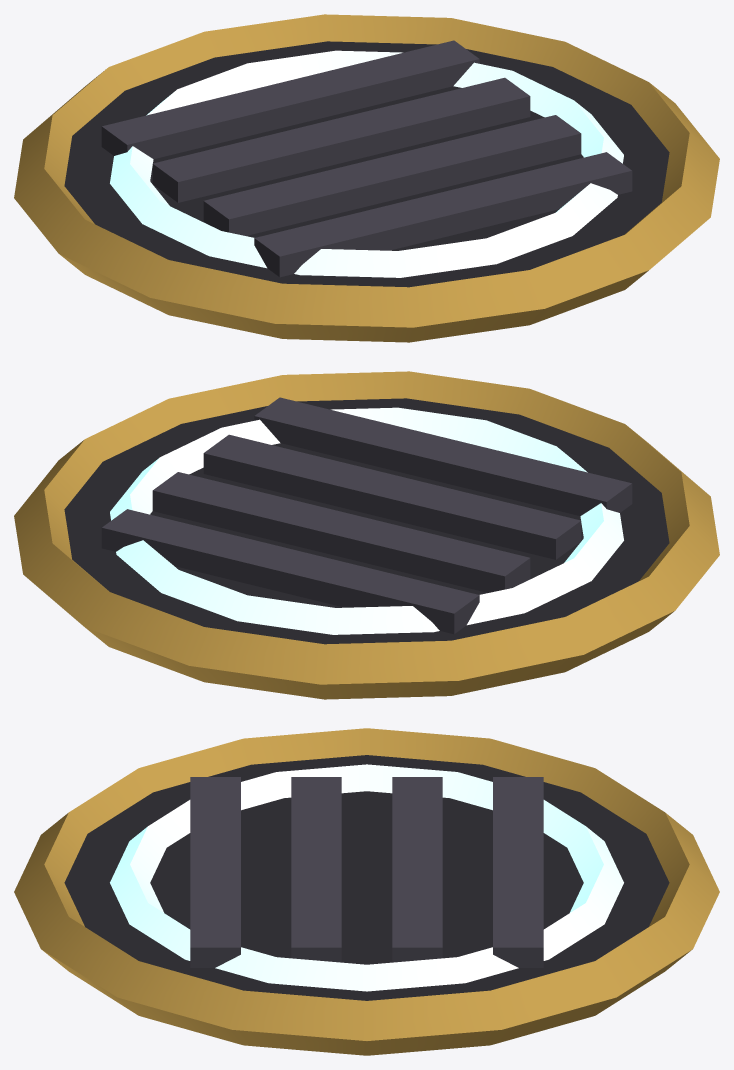
File: BueiroVapor.fbx
3 renders of one model, top to bottom at view 1: azimuth 30°, elevation 25°; view 2: azimuth 150°, elevation 25°; view 3: azimuth 270°, elevation 25°, orthographic.
Parts seen in each view (by area): view 1: Corpo, CristalPulso; view 2: Corpo, CristalPulso; view 3: Corpo, CristalPulso.
Part boxes in pixels (x1,y1,x2,y2): Corpo: [14, 14, 719, 342]; CristalPulso: [110, 50, 623, 277]; Corpo: [14, 371, 719, 699]; CristalPulso: [110, 407, 623, 634]; Corpo: [14, 728, 719, 1055]; CristalPulso: [110, 764, 623, 991].
Bounding box in the file's own units: 1.4 × 0.125 × 1.4.
